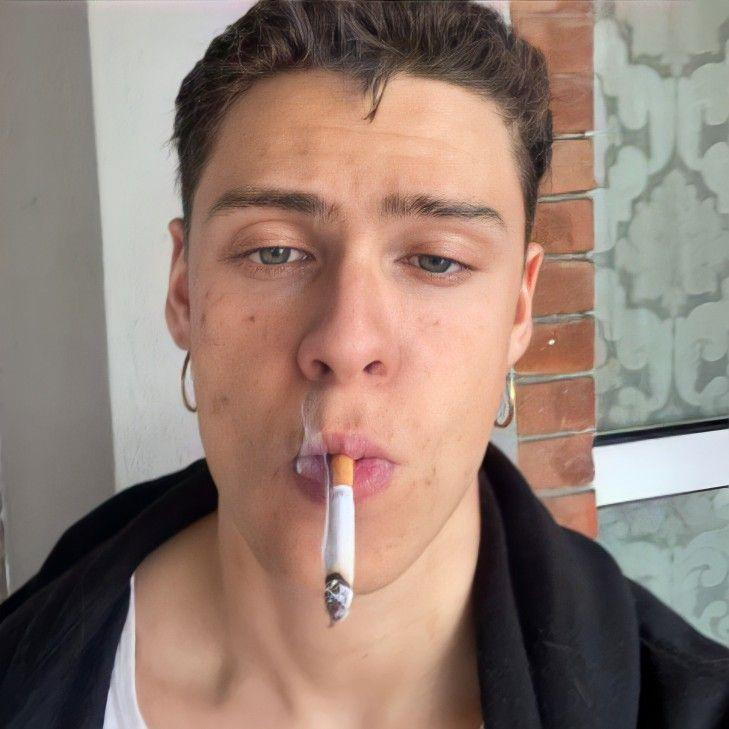cigarette: (323, 453, 357, 628)
